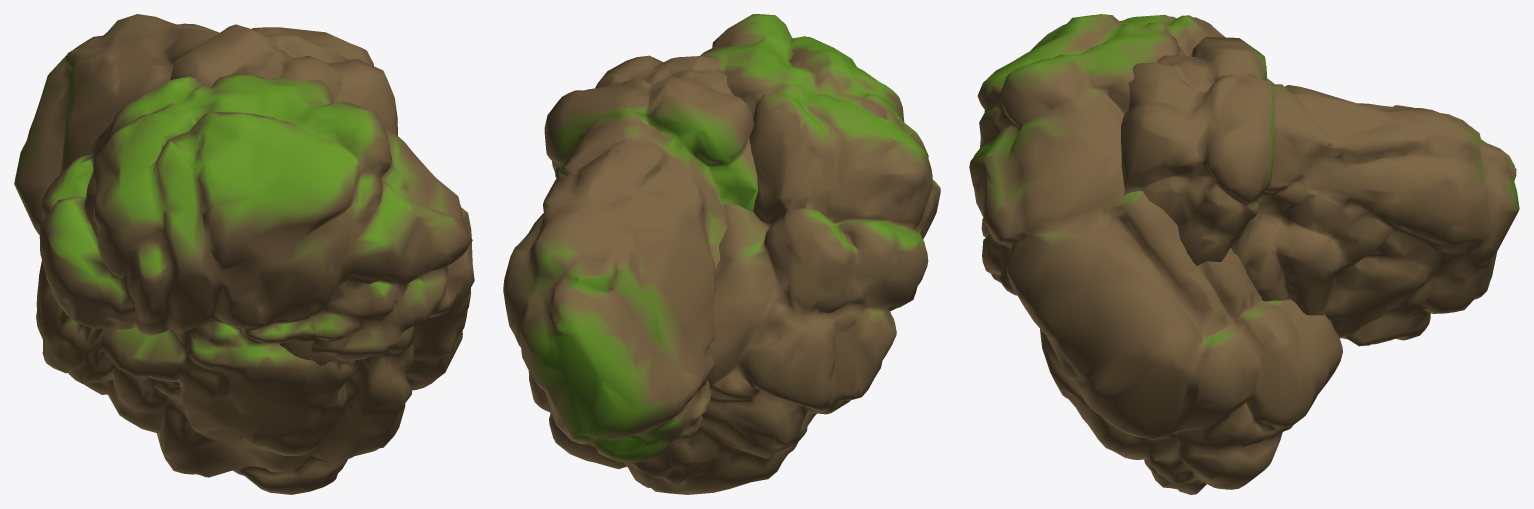
File: cell_x3_z0_render.gltf
3 views of the same model, side by side, from view 1: azimuth 30°, elevation 25°; view 2: azimuth 150°, elevation 25°; view 3: azimuth 270°, elevation 25° (orthographic). The views are drawn at different scales.
Visible parts, largest first — view 1: SM_ENV_cliff_castle_01_LOD0.021, SM_ENV_cliff_castle_02_LOD0.010; view 2: SM_ENV_cliff_castle_01_LOD0.021, SM_ENV_cliff_castle_02_LOD0.010; view 3: SM_ENV_cliff_castle_01_LOD0.021, SM_ENV_cliff_castle_02_LOD0.010.
Boxes of the visible parts, x1,y1,x2,y2 form: SM_ENV_cliff_castle_01_LOD0.021: (36, 73, 474, 494); SM_ENV_cliff_castle_02_LOD0.010: (14, 14, 397, 386); SM_ENV_cliff_castle_01_LOD0.021: (528, 14, 940, 494); SM_ENV_cliff_castle_02_LOD0.010: (503, 55, 758, 462); SM_ENV_cliff_castle_01_LOD0.021: (969, 14, 1342, 494); SM_ENV_cliff_castle_02_LOD0.010: (1121, 37, 1519, 346).
Size of the model in its own units: 53.02 by 58.36 by 68.49.
